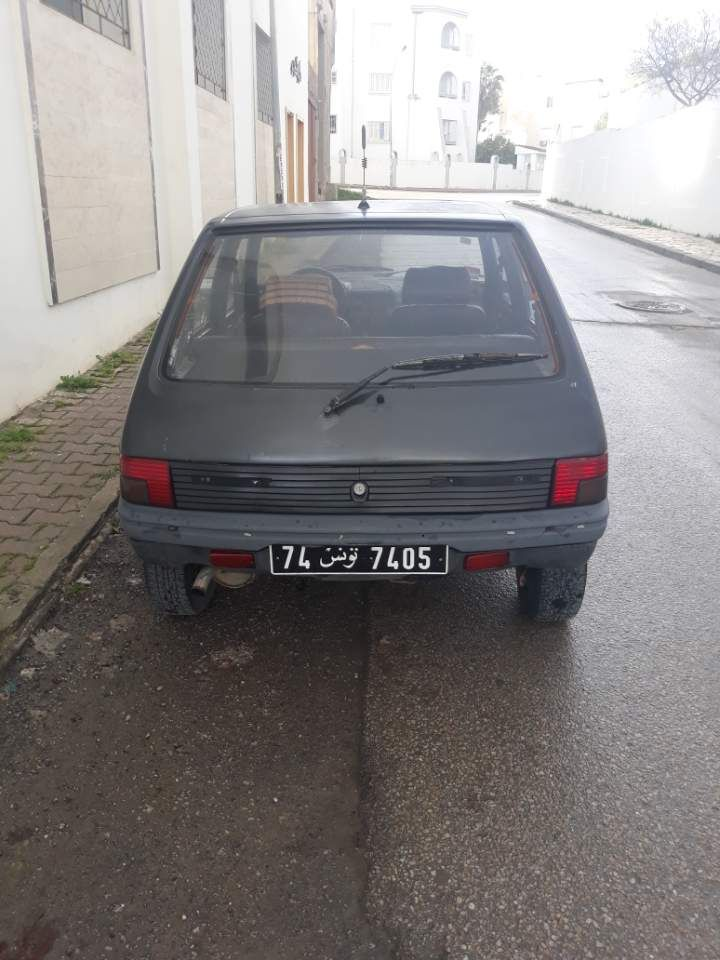LP: (268, 539, 450, 577)
